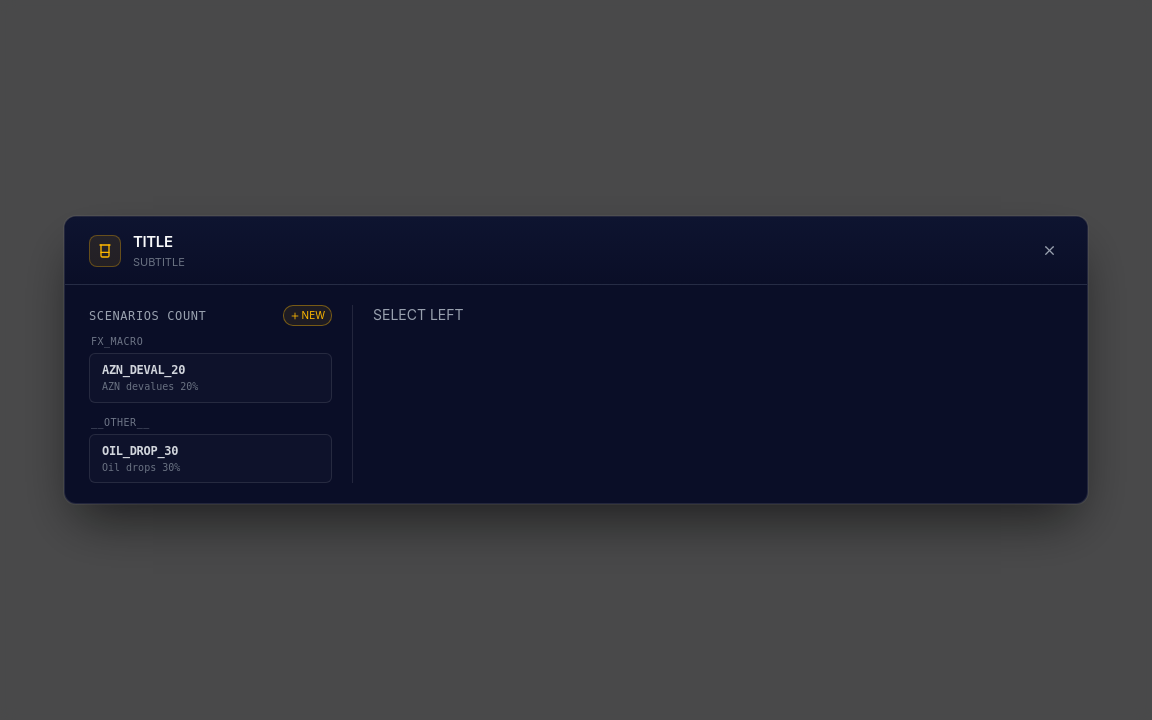
Test case: ScenarioPanel (Phase C4 v1) › clicking a row shows the simulate button
Click the button with test id "scenario-row-AZN_DEVAL_20". click: point(210, 378)
box: [89,353,332,402]
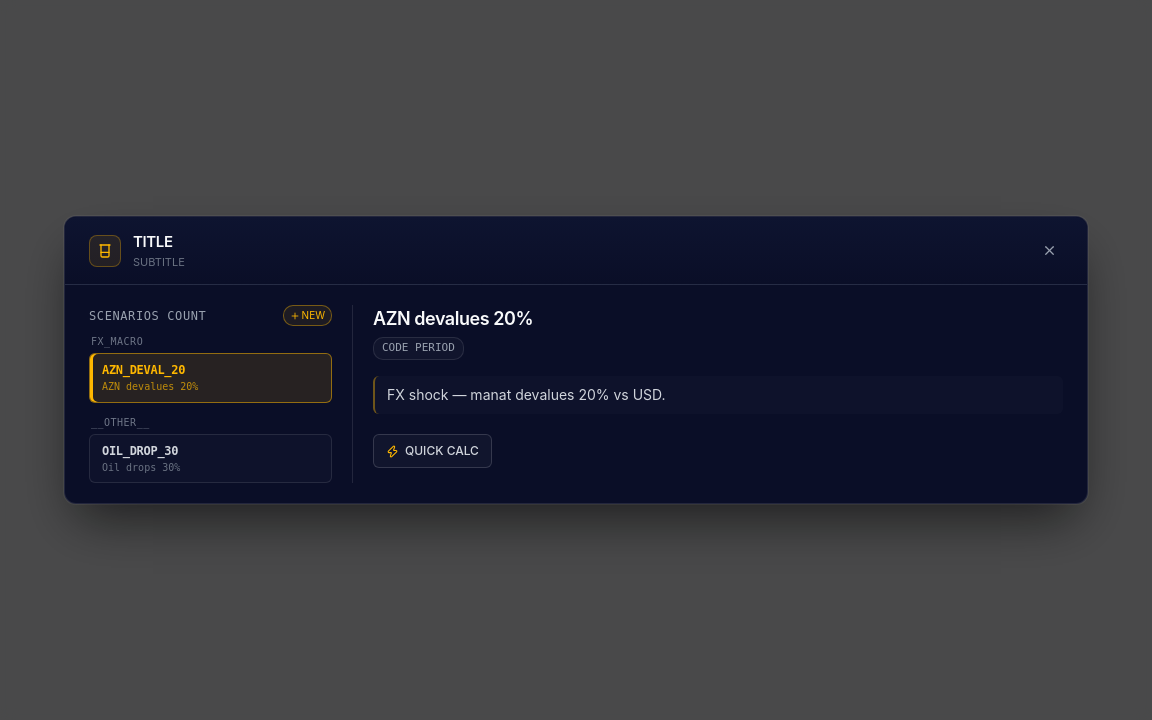
Expected: the button with test id "scenario-simulate-button" is shown, [373,434,492,468]
